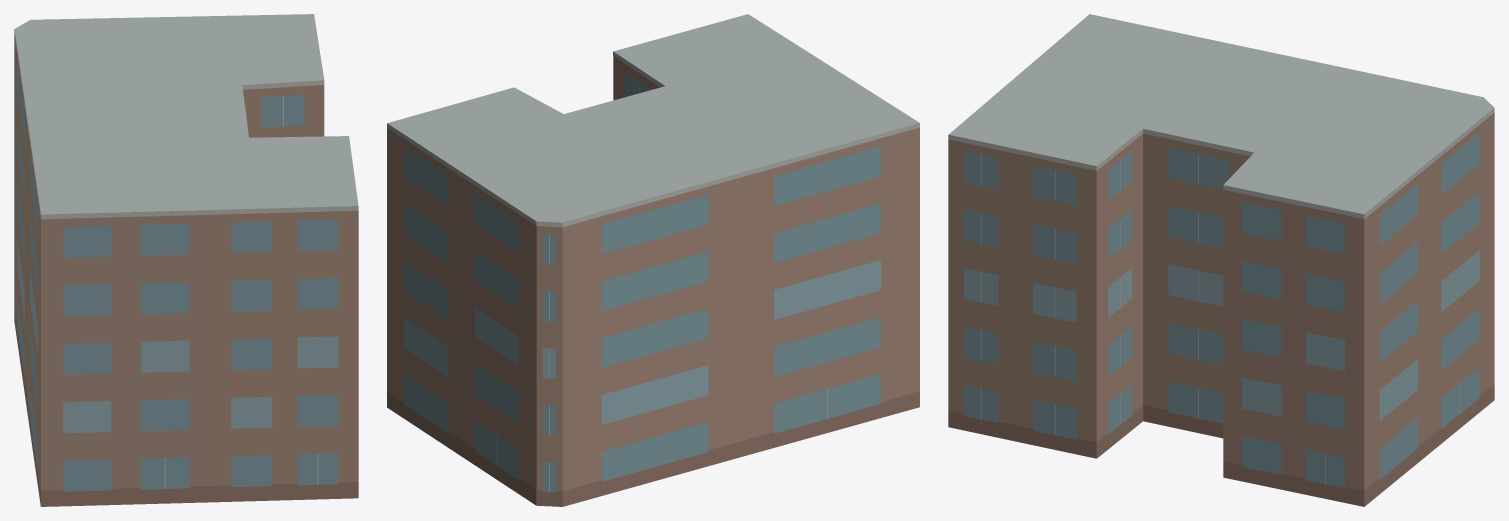
File: survey-upis-32848578.glb
The picture shows the model from 3 angles, left to right: view 1: azimuth 30°, elevation 25°; view 2: azimuth 150°, elevation 25°; view 3: azimuth 270°, elevation 25°; orthographic projection. The views are drawn at different scales.
Visible parts, largest first — view 1: survey-upis-32848578.tmp; view 2: survey-upis-32848578.tmp; view 3: survey-upis-32848578.tmp.
Part boxes in pixels (x1,y1,x2,y2): survey-upis-32848578.tmp: (14,14,358,506); survey-upis-32848578.tmp: (387,14,919,506); survey-upis-32848578.tmp: (948,14,1494,506).
Bounding box in the file's own units: 22.2 × 15.1 × 25.56.
